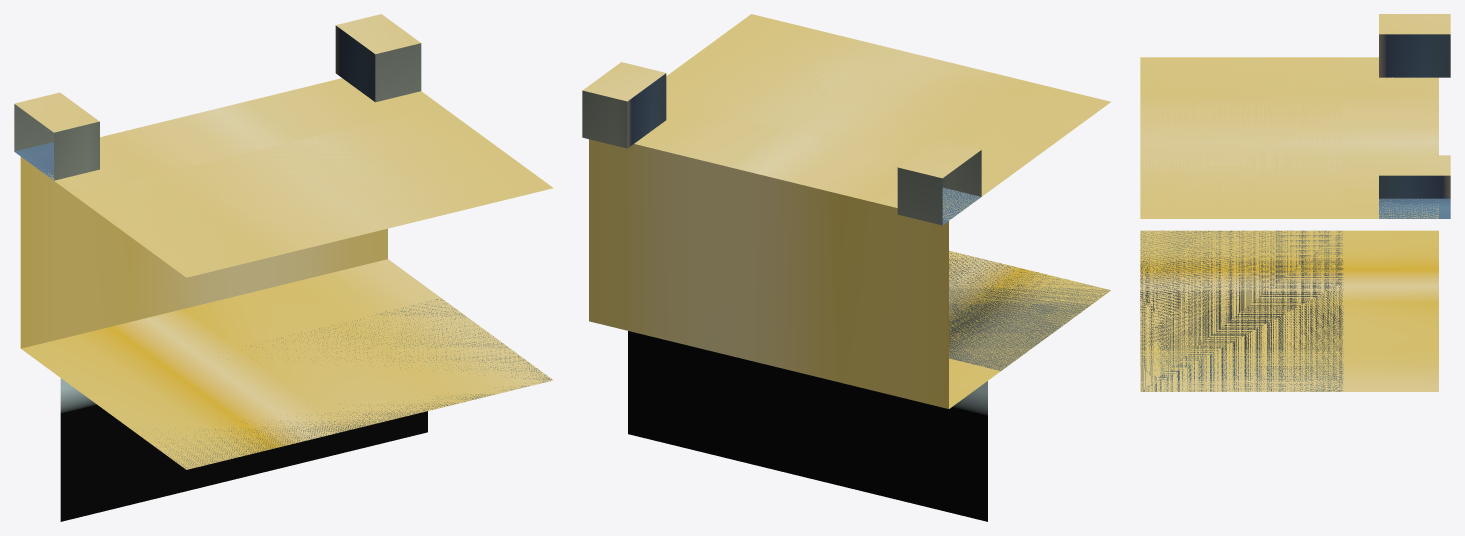
The picture shows the model from 3 angles, left to right: view 1: azimuth 30°, elevation 25°; view 2: azimuth 150°, elevation 25°; view 3: azimuth 270°, elevation 25°; orthographic projection. The views are drawn at different scales.
Visible parts, largest first — view 1: frame; view 2: frame; view 3: frame.
Part boxes in pixels (bbox=[...]): frame: bbox=[14, 14, 553, 521]; frame: bbox=[582, 14, 1110, 521]; frame: bbox=[1140, 14, 1450, 391].
Size of the model in its own units: 1 by 1 by 0.8125.
